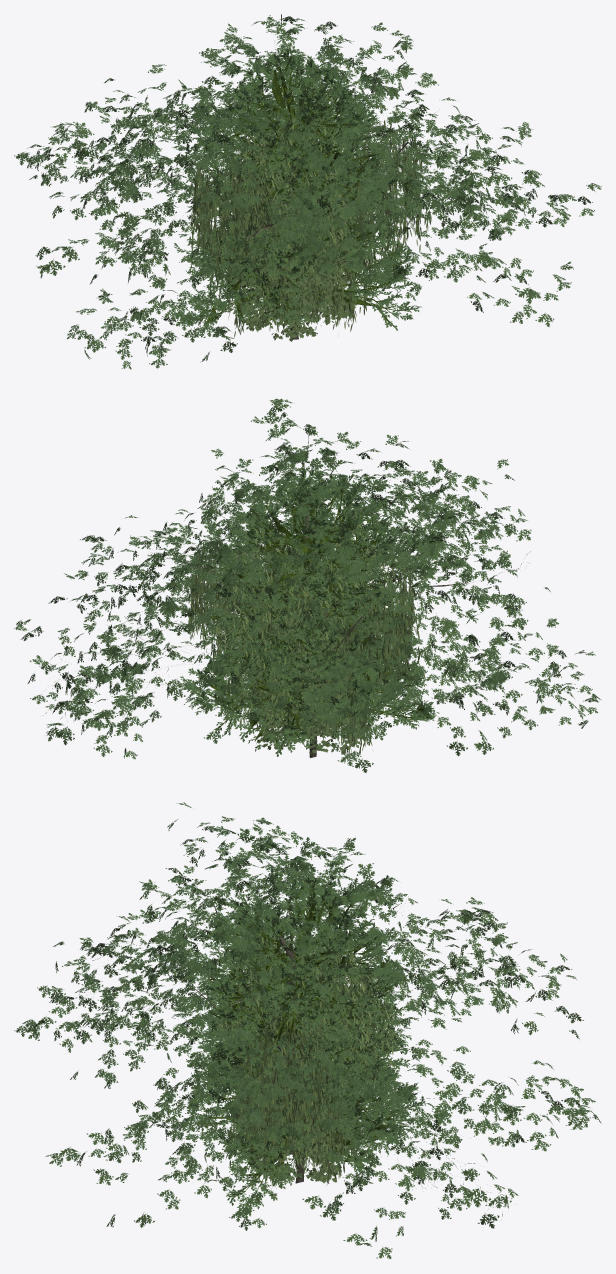
The model's file is vegetation_01.glb.
3 views of the same model, one above another, from view 1: azimuth 30°, elevation 25°; view 2: azimuth 150°, elevation 25°; view 3: azimuth 270°, elevation 25° (orthographic). The views are drawn at different scales.
Visible parts, largest first — view 1: prototype_014, prototype_011, prototype_012, prototype_009, prototype_008, prototype_010, prototype_013; view 2: prototype_014, prototype_011, prototype_012, prototype_009, prototype_008, prototype_010, prototype_013; view 3: prototype_014, prototype_011, prototype_012, prototype_009, prototype_008, prototype_013, prototype_010.
Part boxes in pixels (x1=…): prototype_014: x1=14, y1=14, x2=601, y2=369; prototype_011: x1=184, y1=46, x2=411, y2=312; prototype_012: x1=189, y1=84, x2=431, y2=339; prototype_009: x1=182, y1=117, x2=422, y2=330; prototype_008: x1=228, y1=174, x2=367, y2=336; prototype_010: x1=241, y1=201, x2=352, y2=341; prototype_013: x1=234, y1=165, x2=368, y2=334; prototype_014: x1=14, y1=398, x2=600, y2=772; prototype_011: x1=198, y1=467, x2=428, y2=751; prototype_012: x1=188, y1=511, x2=421, y2=763; prototype_009: x1=180, y1=537, x2=439, y2=756; prototype_008: x1=248, y1=594, x2=373, y2=755; prototype_010: x1=256, y1=617, x2=364, y2=749; prototype_013: x1=249, y1=584, x2=381, y2=757; prototype_014: x1=14, y1=802, x2=601, y2=1258; prototype_011: x1=187, y1=870, x2=418, y2=1185; prototype_012: x1=218, y1=921, x2=407, y2=1188; prototype_009: x1=199, y1=952, x2=425, y2=1216; prototype_008: x1=234, y1=999, x2=360, y2=1183; prototype_013: x1=235, y1=991, x2=353, y2=1181; prototype_010: x1=235, y1=1048, x2=350, y2=1182.
Size of the model in its own units: 38.85 by 22.72 by 36.3.
Materials: 10 (10 with a texture image).
